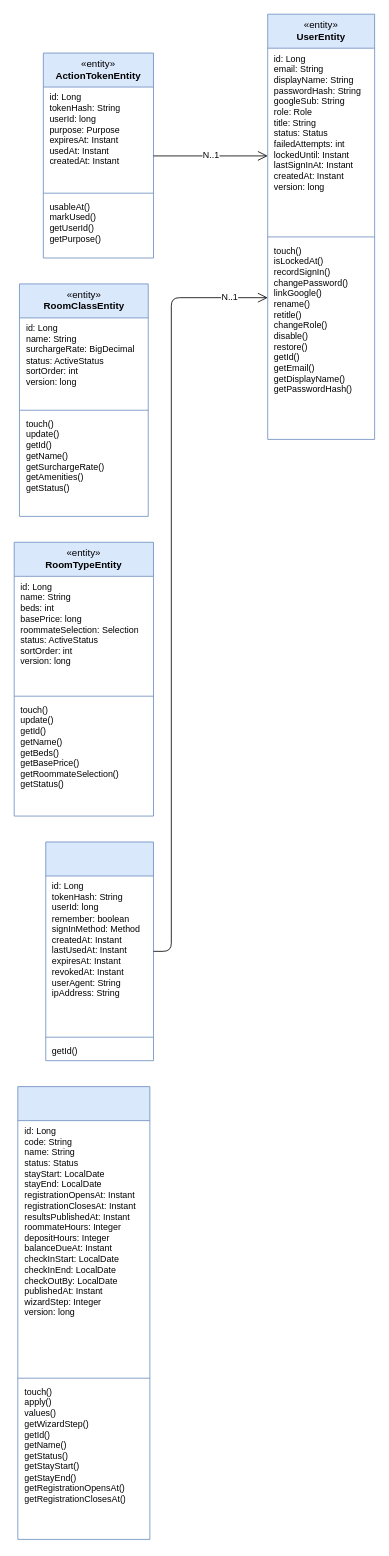
This 389x1556 diagram has some shape labels left out. Here are the shapes that lost their labels. From the top down, the box of each, then its label:
(45, 841, 153, 1061): «entity» SessionEntity
(17, 1086, 150, 1539): «entity» TermEntity
